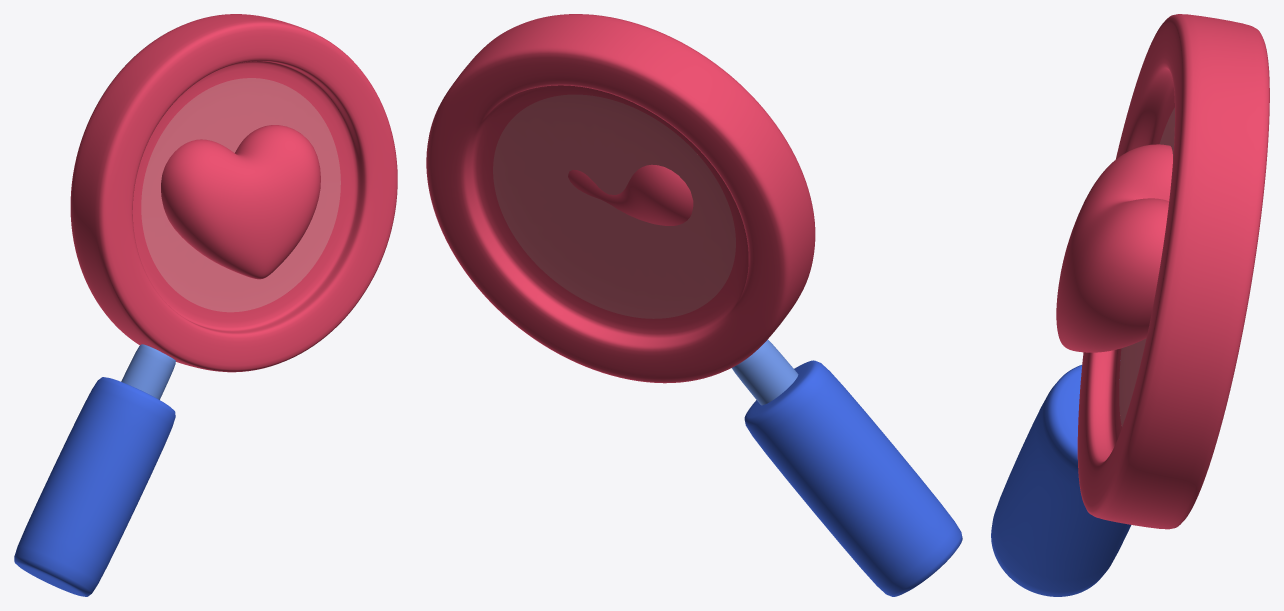
Rendered from find-love-3d-animated-icon-615084163739.glb.
3 views of the same model, side by side, from view 1: azimuth 30°, elevation 25°; view 2: azimuth 150°, elevation 25°; view 3: azimuth 270°, elevation 25° (orthographic). The views are drawn at different scales.
Parts seen in each view (by area): view 1: magnifying glass, handle, heart; view 2: magnifying glass, handle, heart; view 3: magnifying glass, heart, handle.
Part boxes in pixels (x1,y1,x2,y2): magnifying glass: (70,14,397,372); handle: (14,344,175,596); heart: (161,125,320,279); magnifying glass: (426,14,815,383); handle: (732,339,962,596); heart: (568,164,693,225); magnifying glass: (1077,14,1269,529); heart: (1056,144,1172,352); handle: (991,365,1131,596).
Size of the model in its own units: 2.36 by 2.68 by 0.971.
